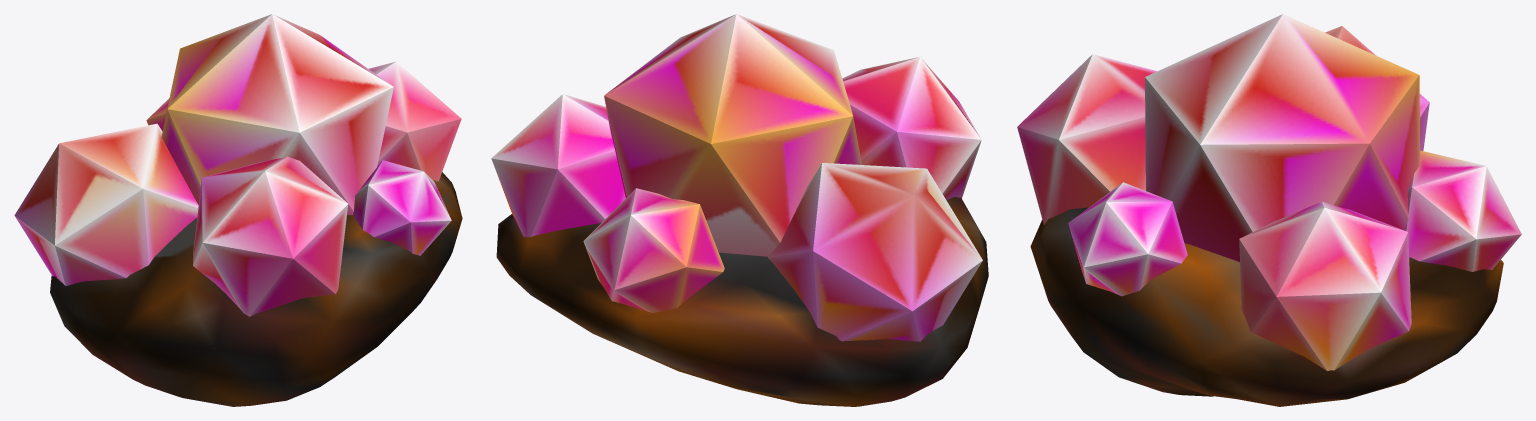
The model's file is Crystal12.FBX.
The picture shows the model from 3 angles, left to right: view 1: azimuth 30°, elevation 25°; view 2: azimuth 150°, elevation 25°; view 3: azimuth 270°, elevation 25°; orthographic projection. The views are drawn at different scales.
Visible parts, largest first — view 1: Crystal12; view 2: Crystal12; view 3: Crystal12.
Boxes of the visible parts, x1,y1,x2,y2 form: Crystal12: (14, 14, 462, 406); Crystal12: (491, 14, 988, 406); Crystal12: (1017, 14, 1521, 406).
Bounding box in the file's own units: 36.61 × 29.29 × 32.92.
